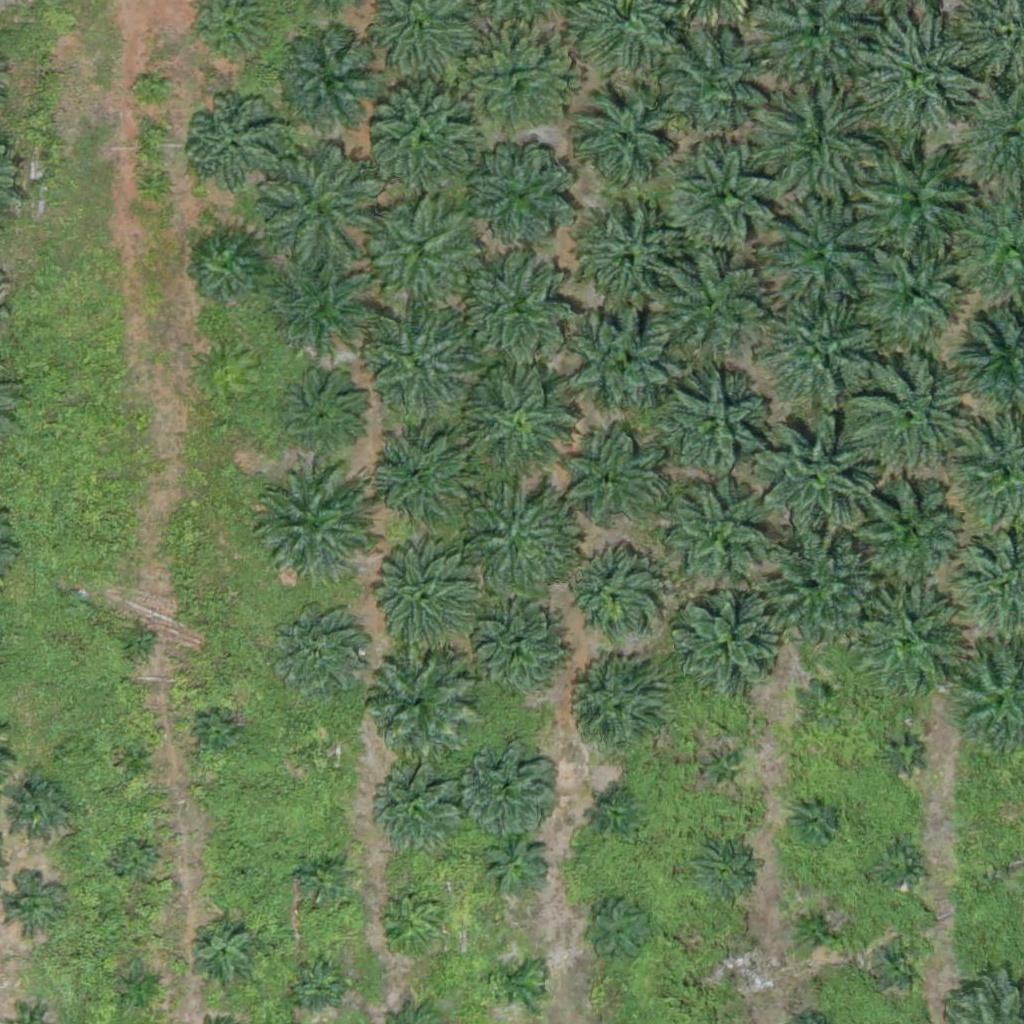Kelapa_Sawit: (848, 13, 973, 139), (744, 83, 869, 209), (254, 142, 379, 268), (247, 462, 372, 588), (657, 476, 782, 602), (760, 191, 885, 317), (758, 285, 883, 411), (753, 420, 878, 546), (753, 535, 878, 661), (850, 130, 975, 256), (854, 229, 979, 355), (850, 350, 975, 476), (840, 463, 965, 589), (459, 477, 584, 602), (457, 24, 570, 137), (369, 85, 482, 198), (467, 135, 580, 248), (575, 205, 688, 318), (358, 645, 471, 758), (462, 250, 575, 363), (462, 363, 575, 476), (560, 301, 673, 414), (674, 591, 787, 704), (654, 252, 766, 366), (661, 30, 773, 143), (568, 83, 680, 196), (669, 139, 781, 252), (367, 201, 479, 314), (268, 252, 380, 365), (363, 308, 475, 421), (365, 541, 477, 654), (656, 365, 768, 478), (853, 591, 965, 704), (279, 34, 379, 135), (268, 601, 368, 702), (371, 429, 471, 530), (469, 601, 569, 702), (559, 429, 659, 530), (561, 546, 661, 647), (559, 659, 659, 760), (464, 736, 564, 837), (183, 97, 283, 197), (280, 366, 367, 454), (377, 769, 464, 857), (189, 231, 264, 307), (578, 892, 653, 967), (9, 776, 72, 839), (292, 849, 355, 912), (189, 918, 251, 981), (694, 840, 756, 903), (485, 831, 547, 894), (383, 894, 445, 957), (491, 954, 541, 1005), (791, 901, 841, 952), (290, 961, 340, 1011), (789, 792, 839, 842), (875, 939, 925, 989), (878, 729, 928, 779), (874, 840, 924, 890), (694, 744, 744, 794), (797, 675, 847, 725), (114, 840, 152, 878), (118, 742, 156, 780), (119, 623, 157, 661), (121, 966, 159, 1004), (133, 74, 170, 112), (596, 798, 634, 835), (304, 736, 342, 773), (200, 716, 237, 754), (721, 955, 746, 980), (231, 866, 256, 891)
